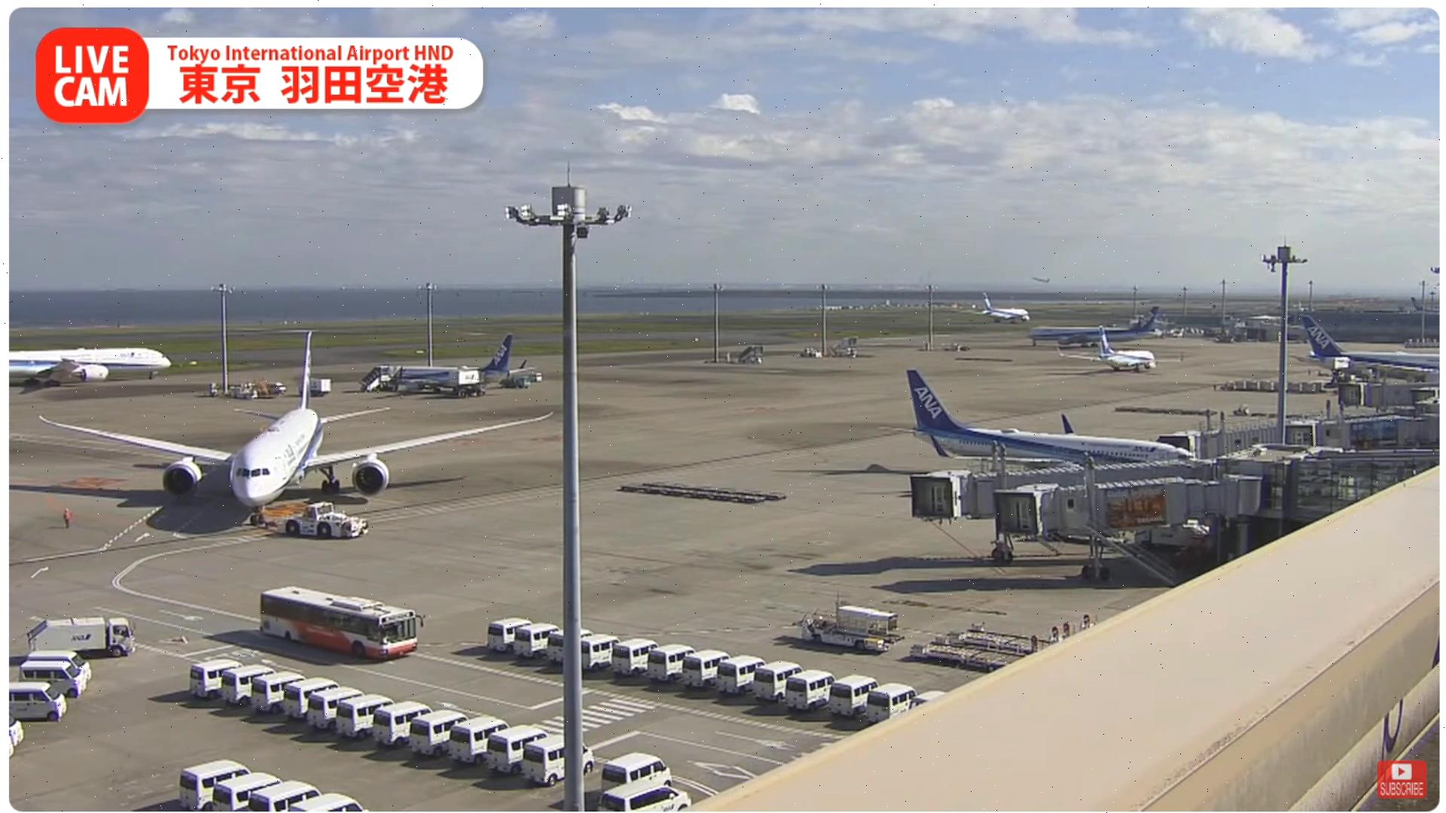APS: (268, 495, 373, 542)
Aerobridge: (909, 459, 1219, 522), (991, 476, 1264, 540)
Airplane: (232, 331, 551, 504), (40, 416, 229, 495)
JCPL: (930, 626, 1059, 654), (911, 641, 1025, 671)
Skyloader: (794, 600, 908, 654)
Window: (1290, 456, 1440, 523)
